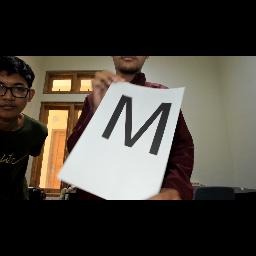m: (100, 92, 174, 158)
